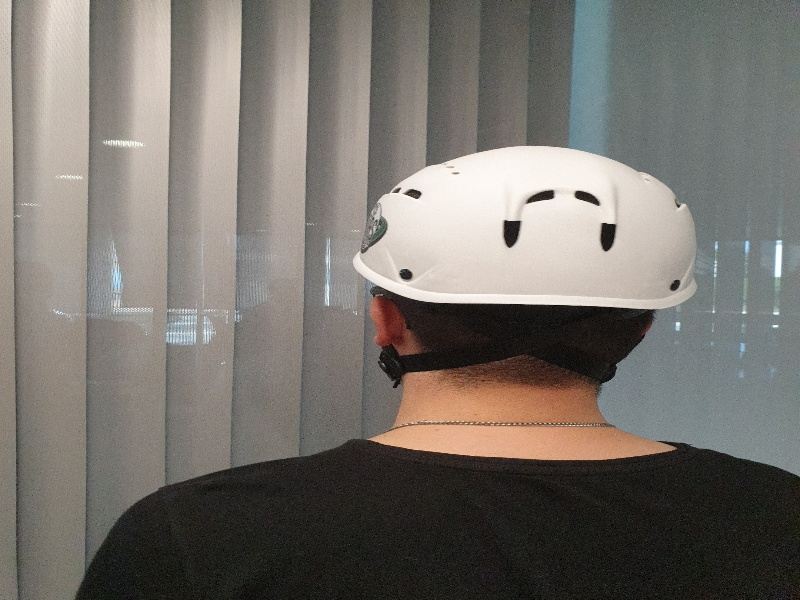Baret: (352, 144, 701, 312)
